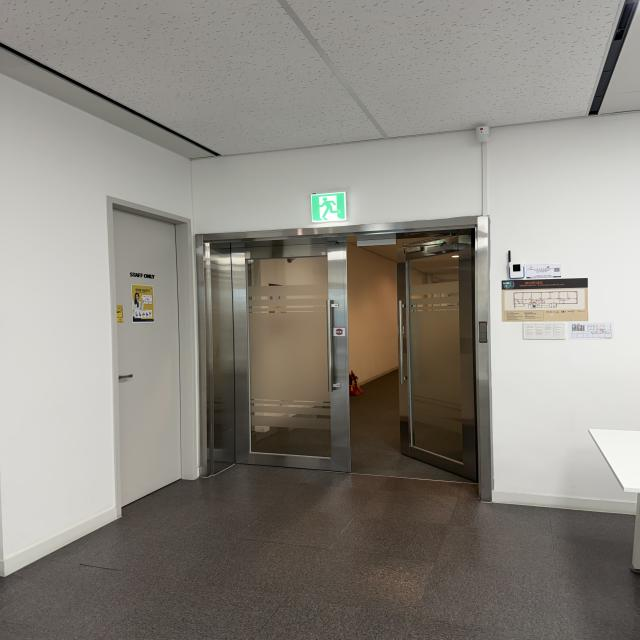rear_door: (221, 227, 477, 485)
